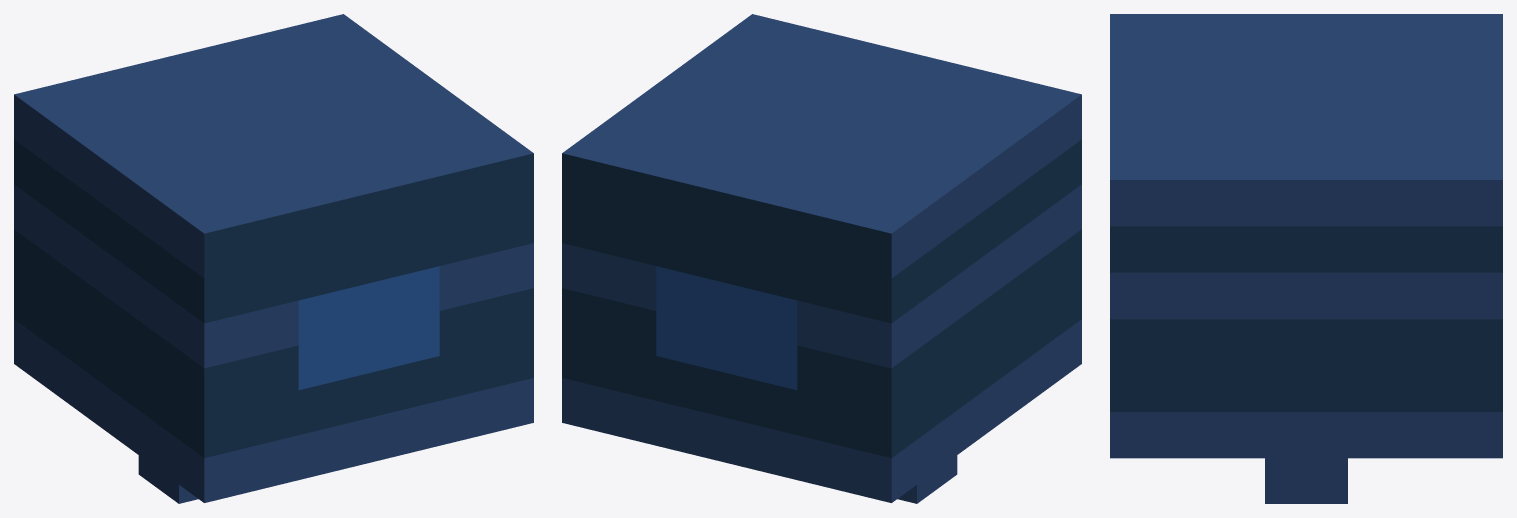
The model's file is enemyWizardBody.glb.
3 renders of one model, left to right at view 1: azimuth 30°, elevation 25°; view 2: azimuth 150°, elevation 25°; view 3: azimuth 270°, elevation 25°, orthographic. The views are drawn at different scales.
Visible parts, largest first — view 1: enemy wizard body; view 2: enemy wizard body; view 3: enemy wizard body.
Boxes of the visible parts, x1,y1,x2,y2 form: enemy wizard body: (14,14,533,503); enemy wizard body: (562,14,1081,503); enemy wizard body: (1110,14,1502,503).
Bounding box in the file's own units: 1.47 × 1.44 × 1.47.
